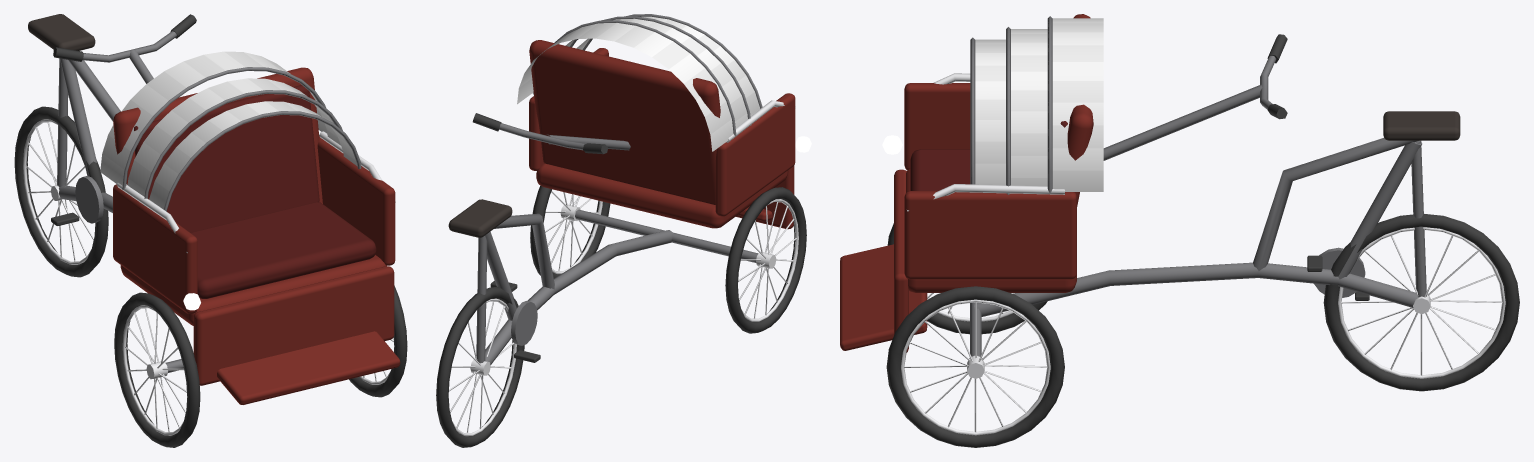
Rendered from cyclo.glb.
3 views of the same model, side by side, from view 1: azimuth 30°, elevation 25°; view 2: azimuth 150°, elevation 25°; view 3: azimuth 270°, elevation 25° (orthographic). The views are drawn at different scales.
Parts seen in each view (by area): view 1: cyclo; view 2: cyclo; view 3: cyclo.
Part boxes in pixels (box(x1,y1,x2,y2)): cyclo: box(14, 14, 407, 447); cyclo: box(436, 14, 811, 447); cyclo: box(840, 14, 1519, 447).
Bounding box in the file's own units: 0.975 × 1.34 × 2.29.
